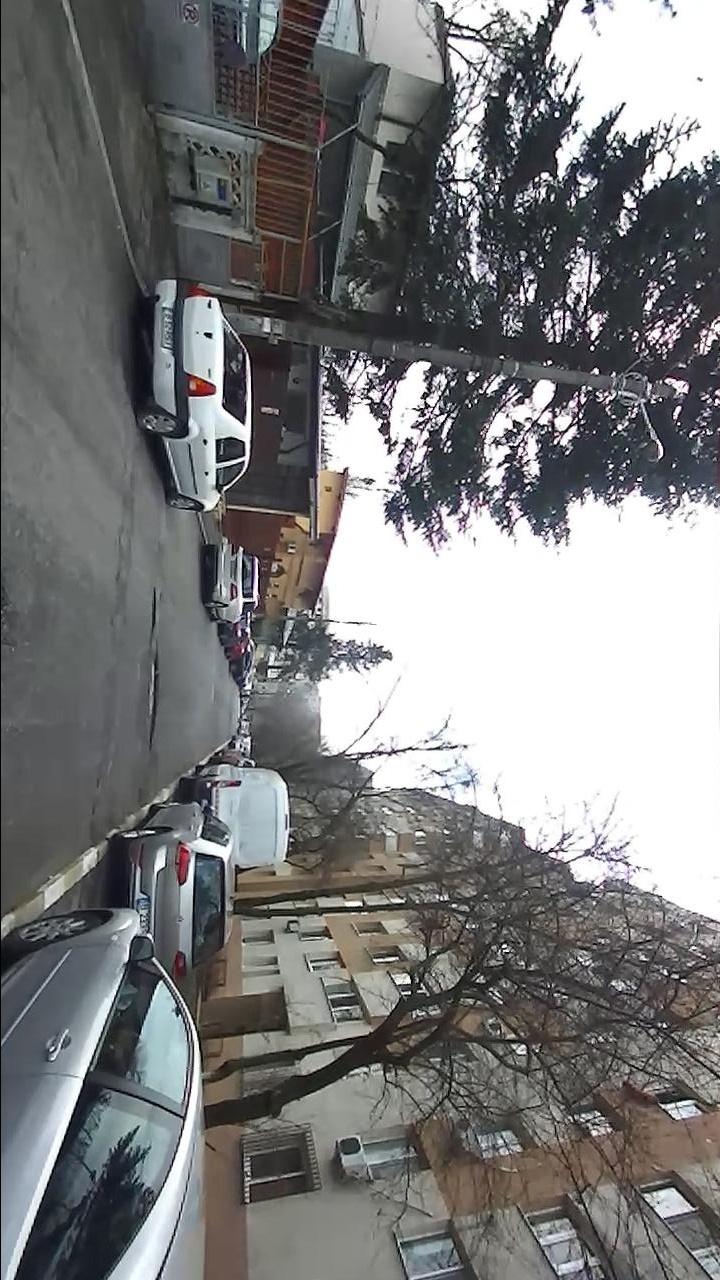pothole: (141, 645, 164, 750), (0, 570, 21, 651), (143, 584, 162, 641)
